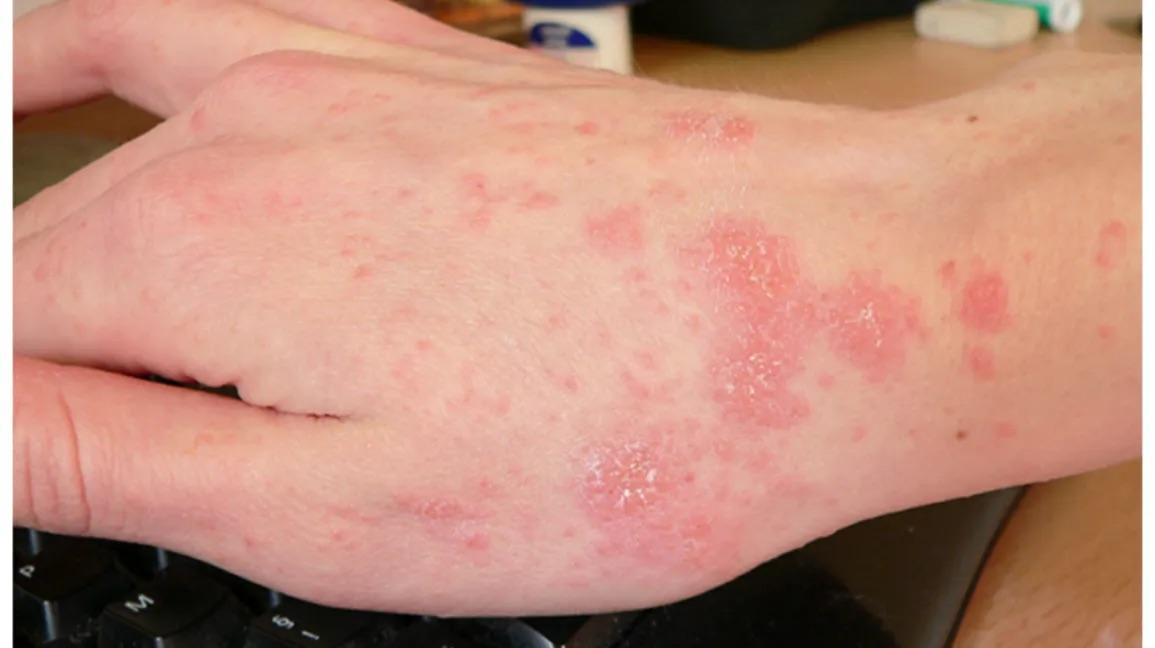Scabies: (687, 192, 920, 416), (561, 388, 740, 546), (939, 254, 1038, 402), (569, 192, 684, 308), (655, 88, 764, 164)
